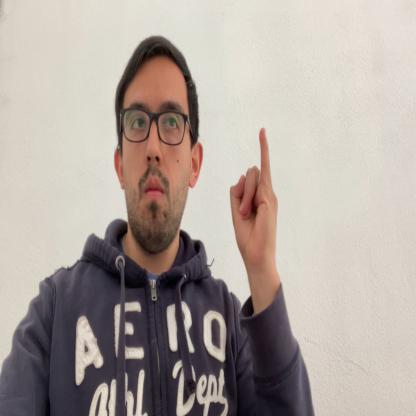I: (229, 125, 278, 263)
